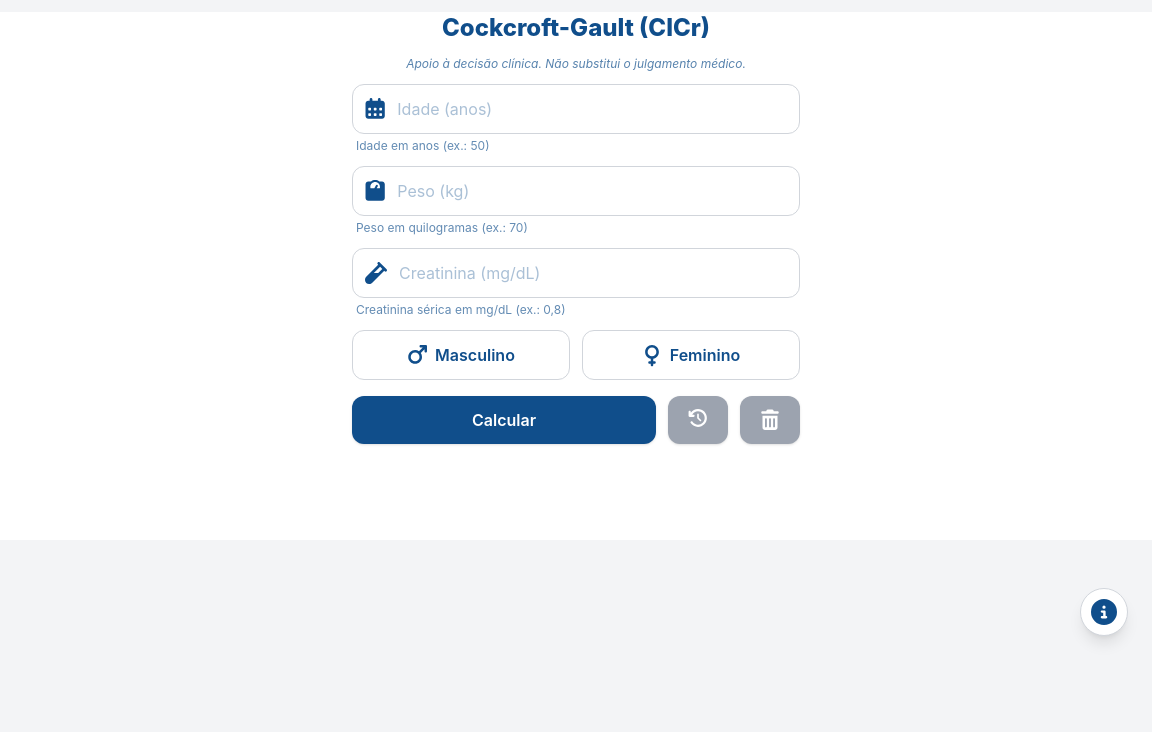
Scenario: Cockcroft-Gault (interface) › recarregar: sem nada salvo e com valor salvo
The width and height of the screenshot is (1152, 732).
Click the button named "Recarregar último resultado": (698, 420) [668,396,728,444]
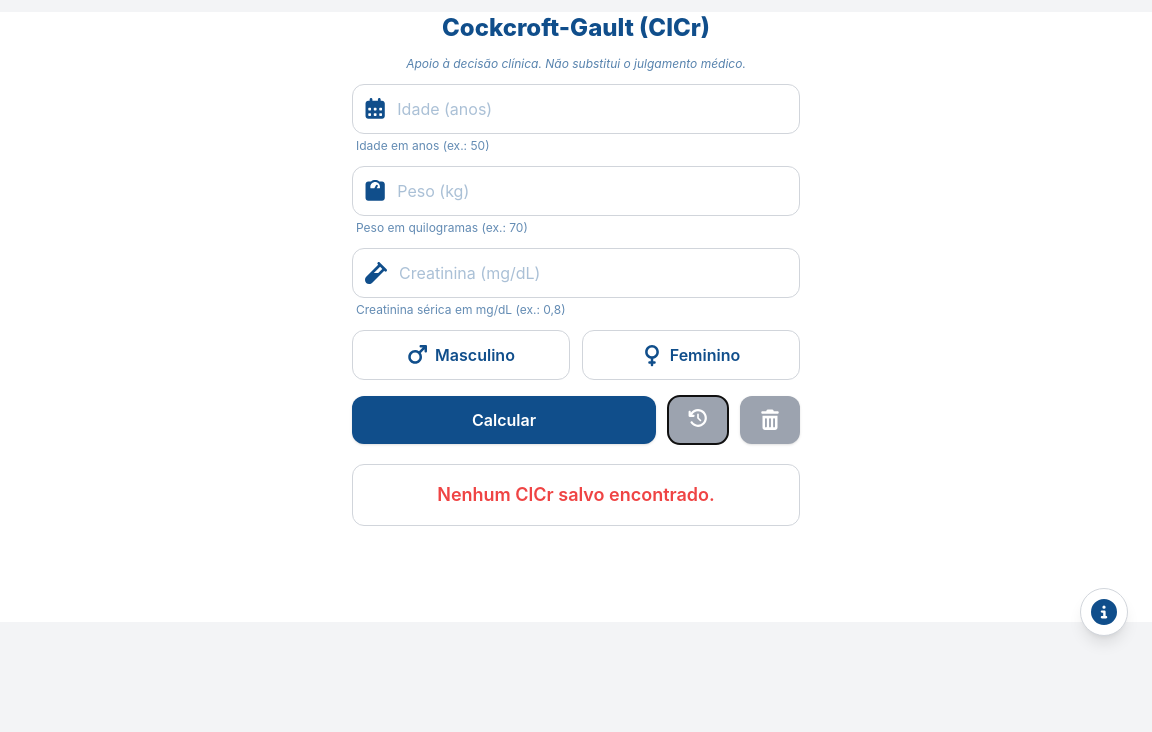
Check: the message reads "Nenhum ClCr salvo encontrado.", box [437,484,715,505]
Click the button named "Recarregar último resultado": (698, 420) [668,396,728,444]
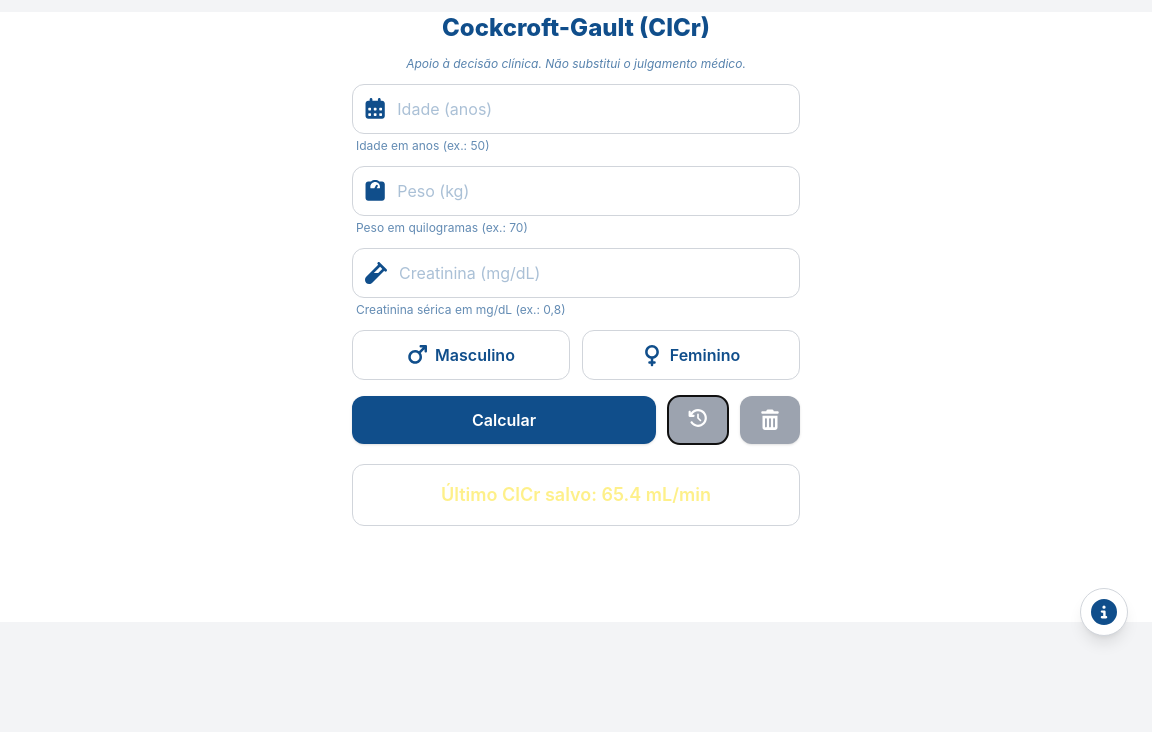
Check: the message reads "Último ClCr salvo: 65.4 mL/min", box [441,484,711,505]
